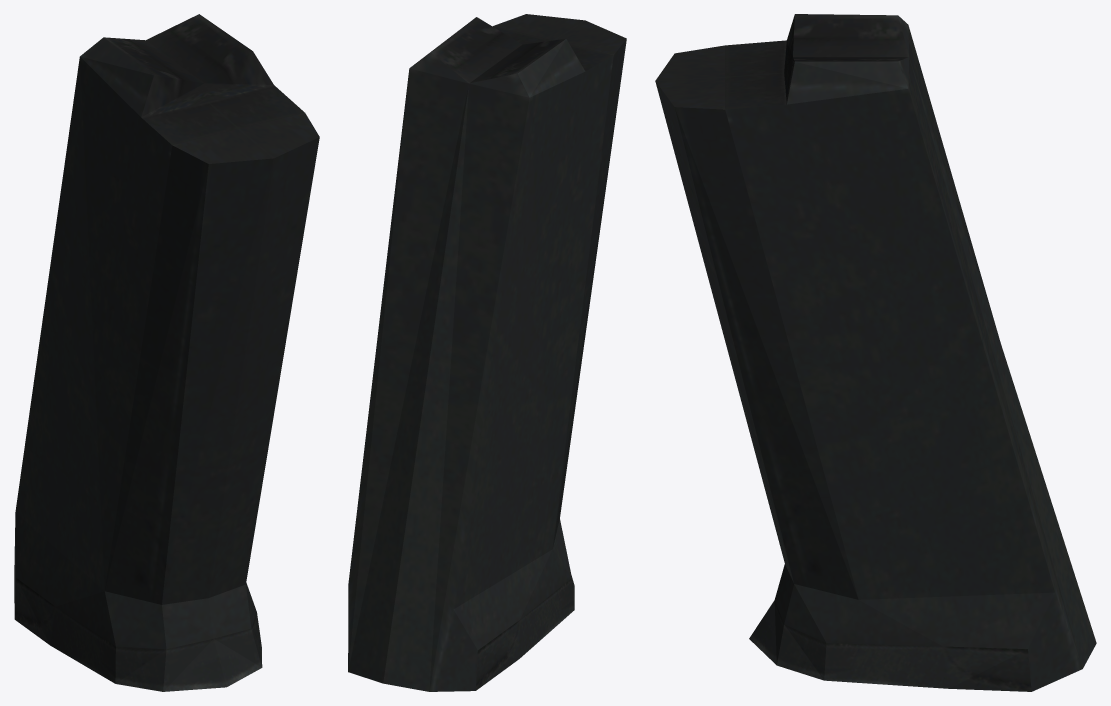
File: w_pist_fiveseven_mag.obj
3 renders of one model, left to right at view 1: azimuth 30°, elevation 25°; view 2: azimuth 150°, elevation 25°; view 3: azimuth 270°, elevation 25°, orthographic. The views are drawn at different scales.
Visible parts, largest first — view 1: w_pist_fiveseven_mag_reference; view 2: w_pist_fiveseven_mag_reference; view 3: w_pist_fiveseven_mag_reference.
Boxes of the visible parts, bbox=[...] form: w_pist_fiveseven_mag_reference: bbox=[14, 14, 319, 691]; w_pist_fiveseven_mag_reference: bbox=[348, 14, 626, 691]; w_pist_fiveseven_mag_reference: bbox=[655, 14, 1096, 691].
Size of the model in its own units: 1.41 by 5.58 by 3.6.
